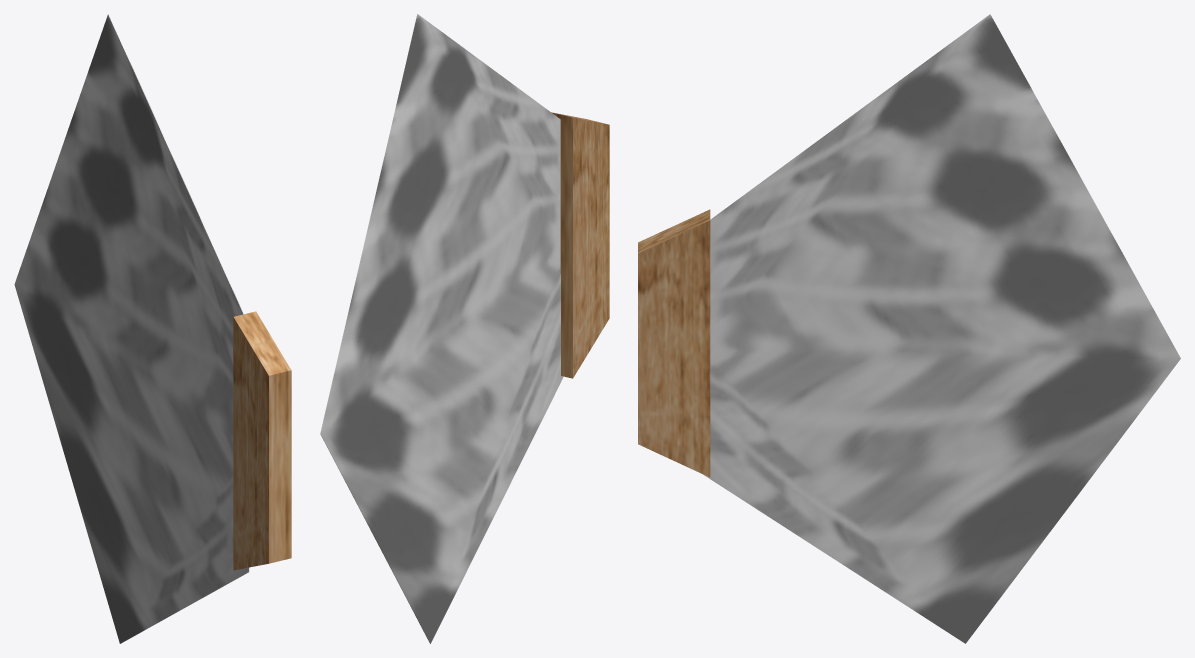
The model's file is back_bahkab_1.dae.
3 views of the same model, side by side, from view 1: azimuth 30°, elevation 25°; view 2: azimuth 150°, elevation 25°; view 3: azimuth 270°, elevation 25° (orthographic). The views are drawn at different scales.
Parts seen in each view (by area): view 1: back_nobre_1; view 2: back_nobre_1; view 3: back_nobre_1.
Part boxes in pixels (x1,y1,x2,y2): back_nobre_1: [14, 14, 291, 643]; back_nobre_1: [320, 14, 609, 643]; back_nobre_1: [638, 14, 1180, 643].
Size of the model in its own units: 0.0692 by 1.41 by 1.8.
